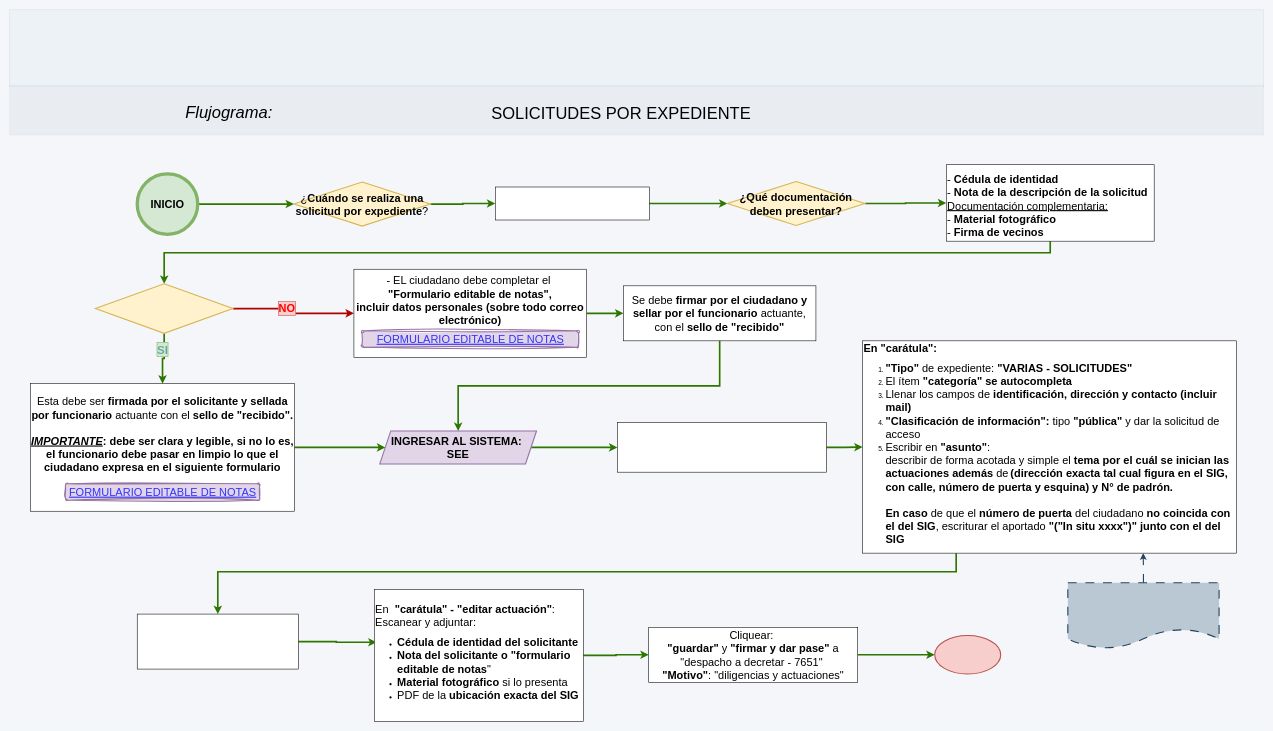
Image size: 1273x731. Some labels were removed from this diagram. The box of each missing label's shape, as (x1, y1, x2, y2) in pixels:
Cliquear: "guardar" e "imprimir carátula" (se le entrega al solicitante): (137, 614, 298, 669)
Cuando no corresponde iniciarla por otra plataforma: (495, 186, 649, 220)
FIN: (934, 635, 1001, 674)
Ingresar a "bandeja": Desde "oficina": CCZ9 - 3310 "Crear nuevo expediente": (617, 422, 826, 472)
¿Cómo podemos buscar la dirección en el sistema SIG? (ver procedimiento): (1067, 582, 1219, 649)
¿El ciudadano presenta la nota?: (95, 283, 233, 334)
